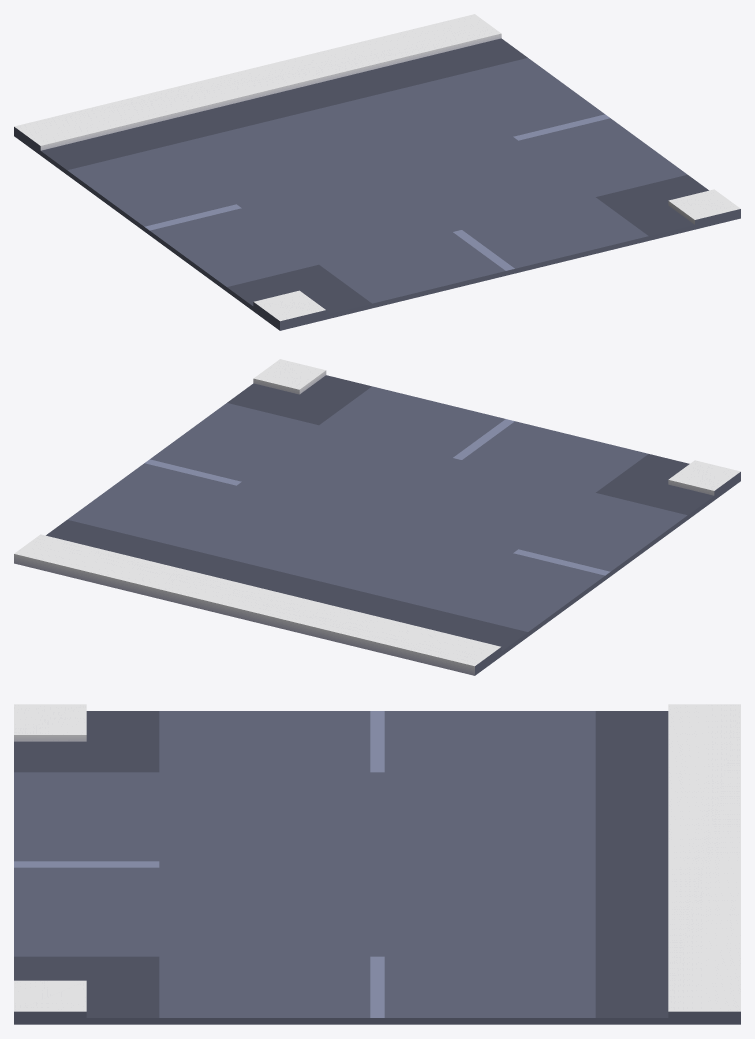
The model's file is road_intersection.glb.
3 renders of one model, top to bottom at view 1: azimuth 30°, elevation 25°; view 2: azimuth 150°, elevation 25°; view 3: azimuth 270°, elevation 25°, orthographic. The views are drawn at different scales.
Parts seen in each view (by area): view 1: road-intersection; view 2: road-intersection; view 3: road-intersection.
Boxes of the visible parts, x1,y1,x2,y2 form: road-intersection: (14, 14, 740, 330); road-intersection: (14, 359, 740, 675); road-intersection: (14, 704, 740, 1024).
Bounding box in the file's own units: 1 × 0.02 × 1.
1 material, 1 textured.
